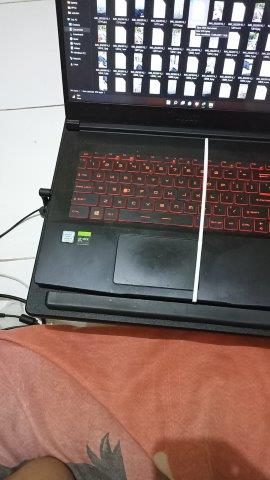sedotan: (192, 138, 209, 301)
